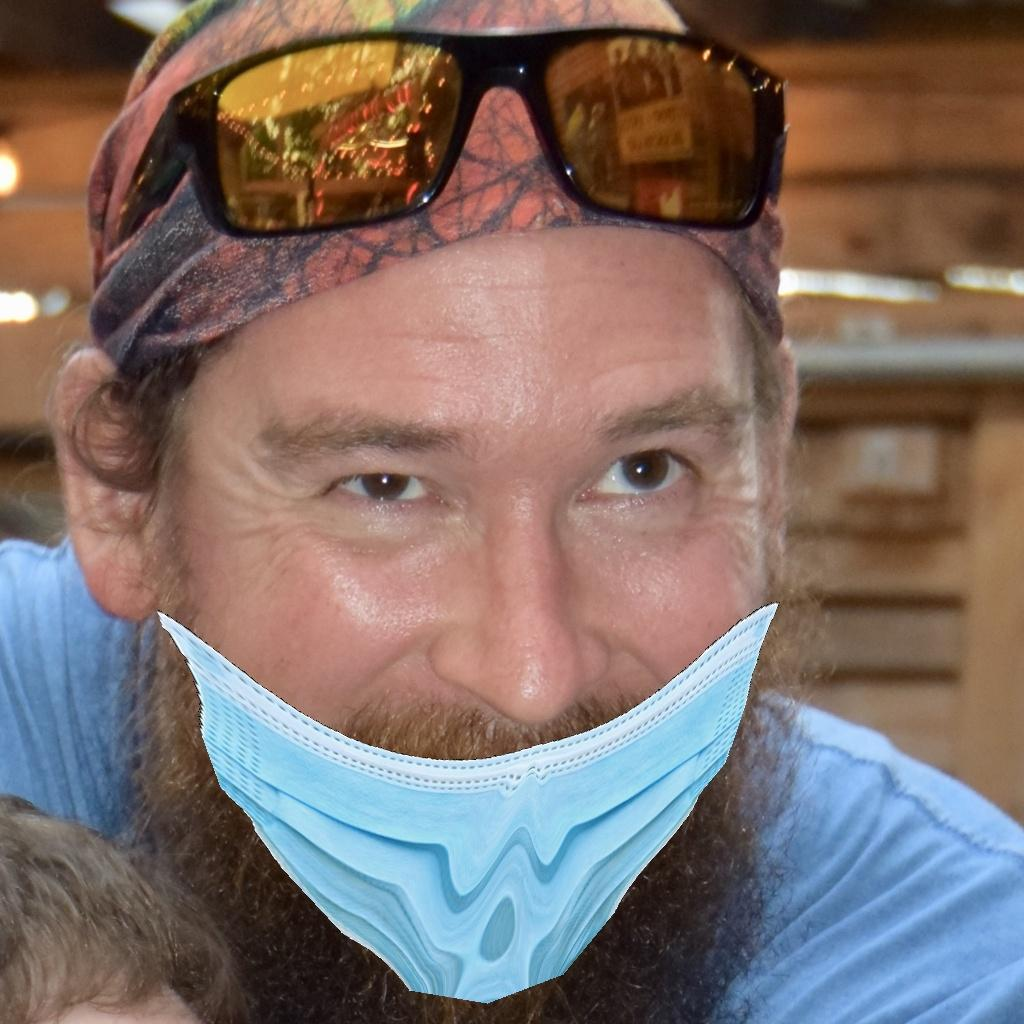Máscara Incorreta: (147, 49, 791, 982)
